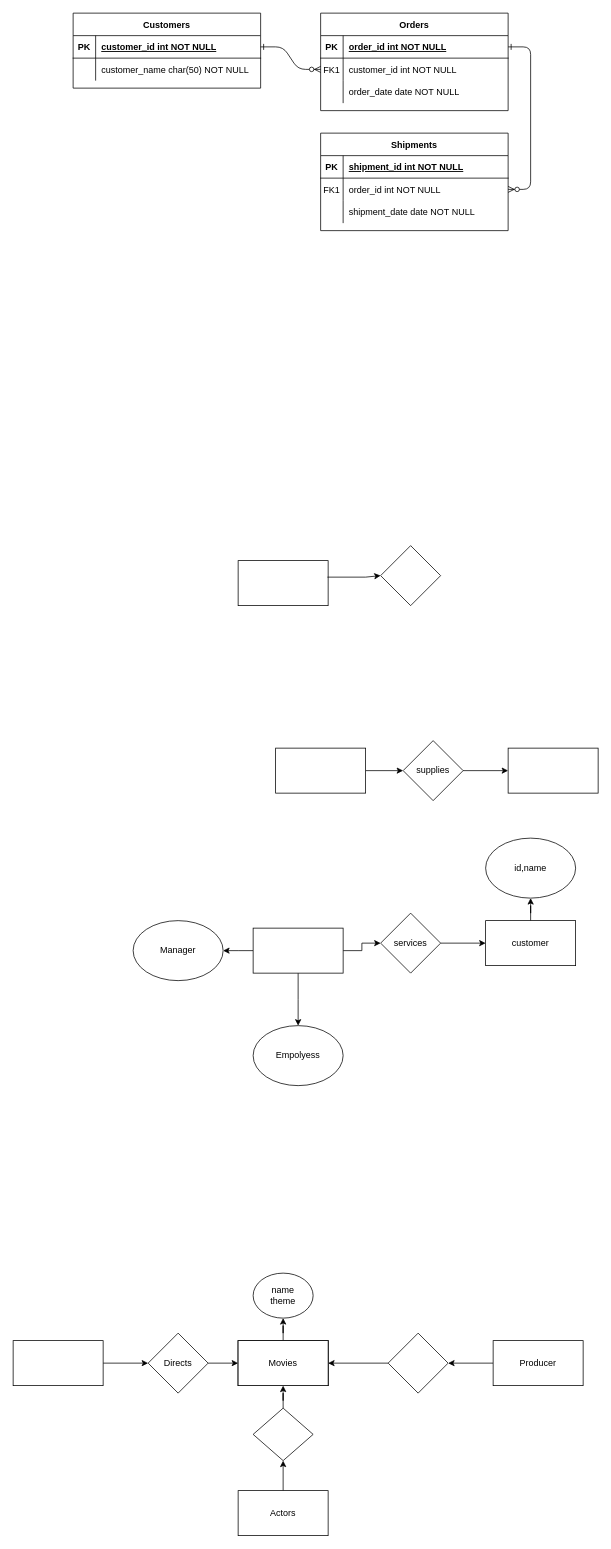
The diagram is 611 pixels wide and 1549 high, and some of its shapes have lost their labels. Each missing label, with the centre of its shape:
Acting: the point at 282,1434
bank: the point at 297,950
Course: the point at 282,583
Director: the point at 57,1363
parts: the point at 552,770
Produces: the point at 417,1362
supplier: the point at 320,770
